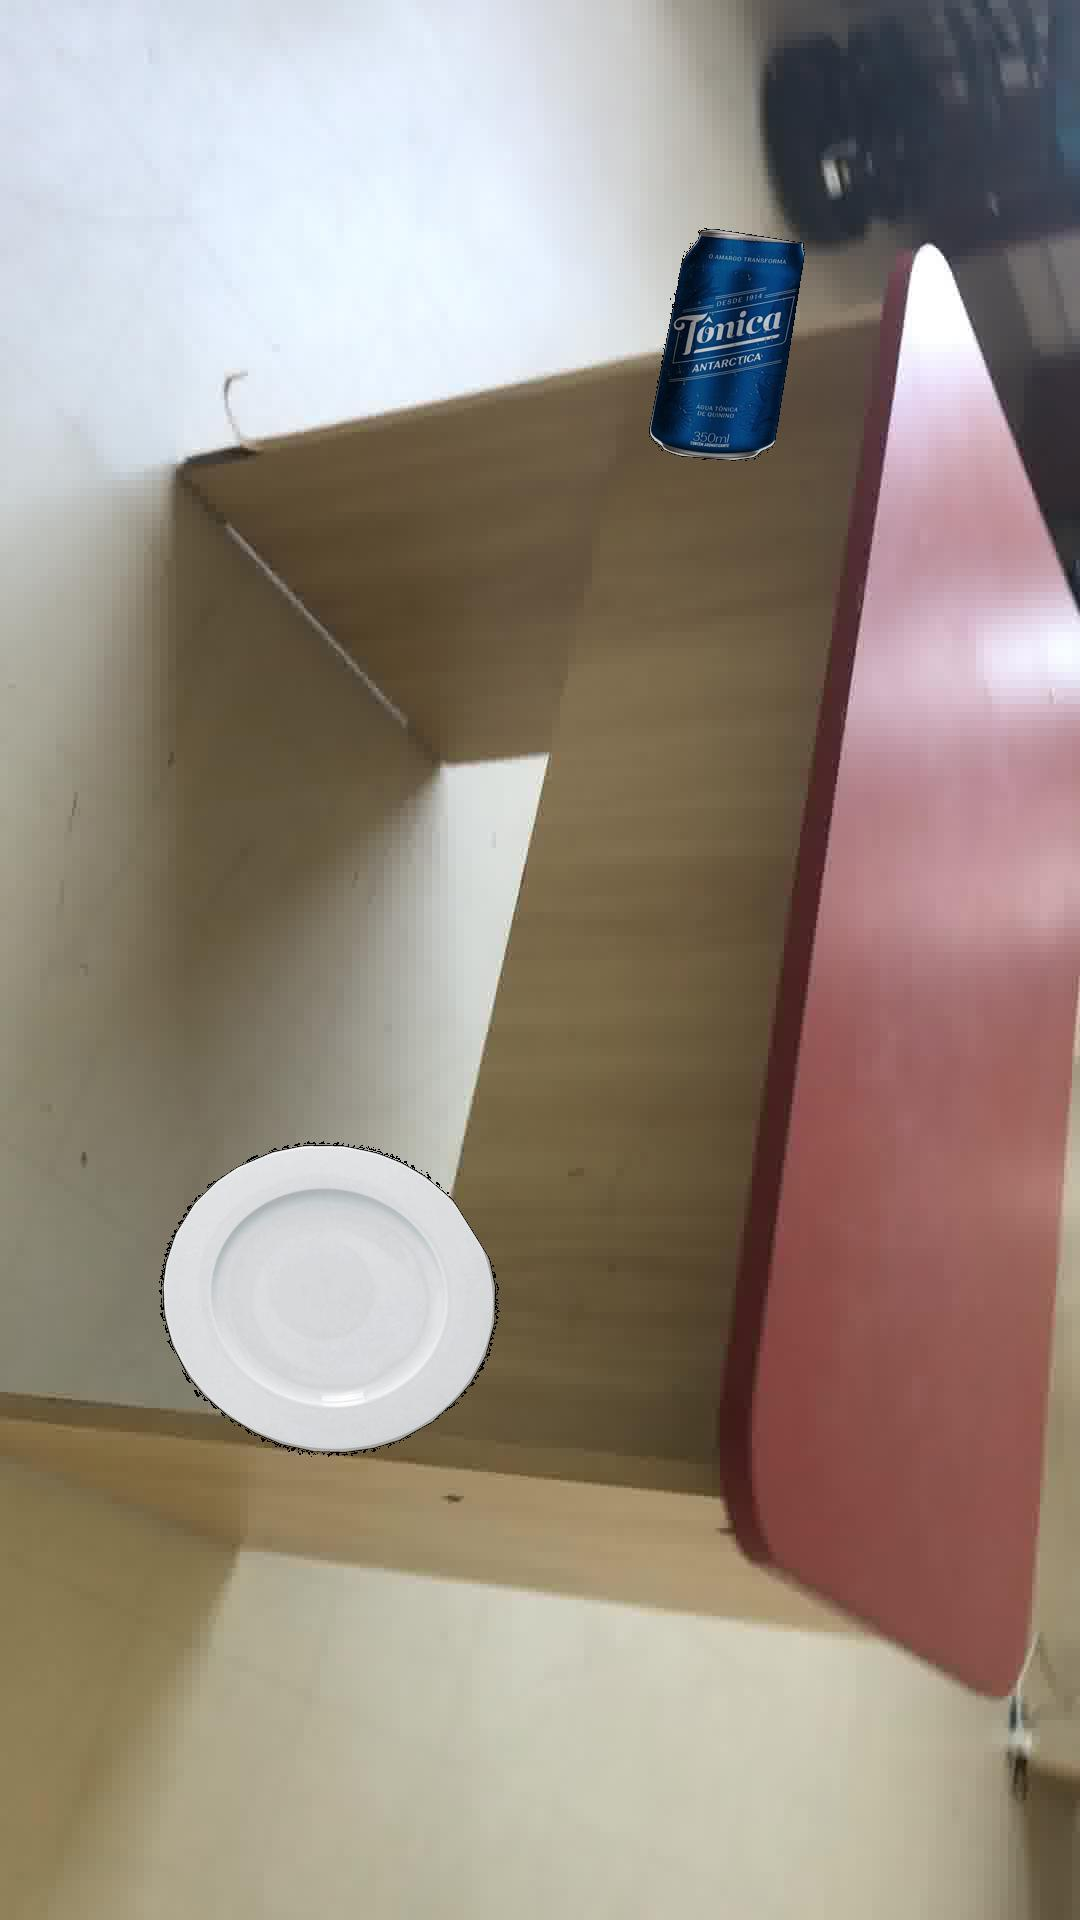plate: (158, 1139, 497, 1456)
tonic: (647, 227, 803, 459)
